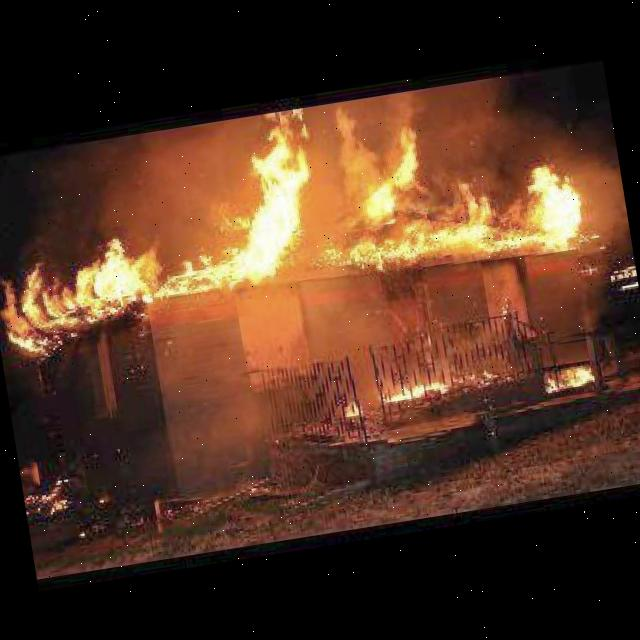fire: (0, 63, 606, 357), (368, 352, 498, 406), (524, 355, 602, 400), (320, 390, 364, 424)
